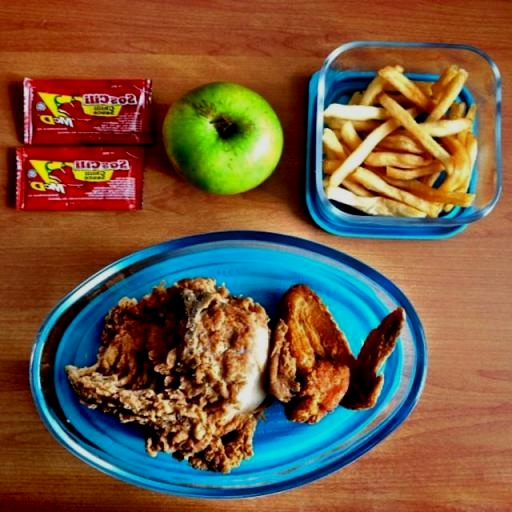fruit: (162, 83, 282, 194)
